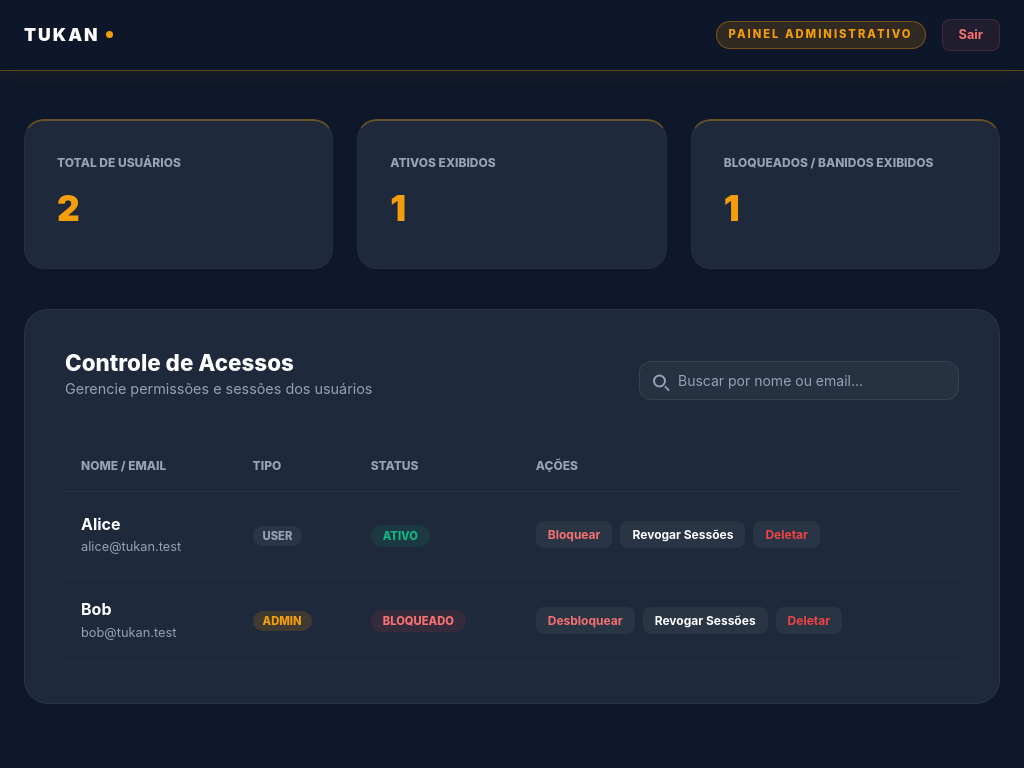
Test: DashboardView — admin search › shows a search-aware empty message when the term yields no results
Type "zzz" into the search field with class "search-input" at (799, 381), box [639,361,959,400]
Wait 350 ms
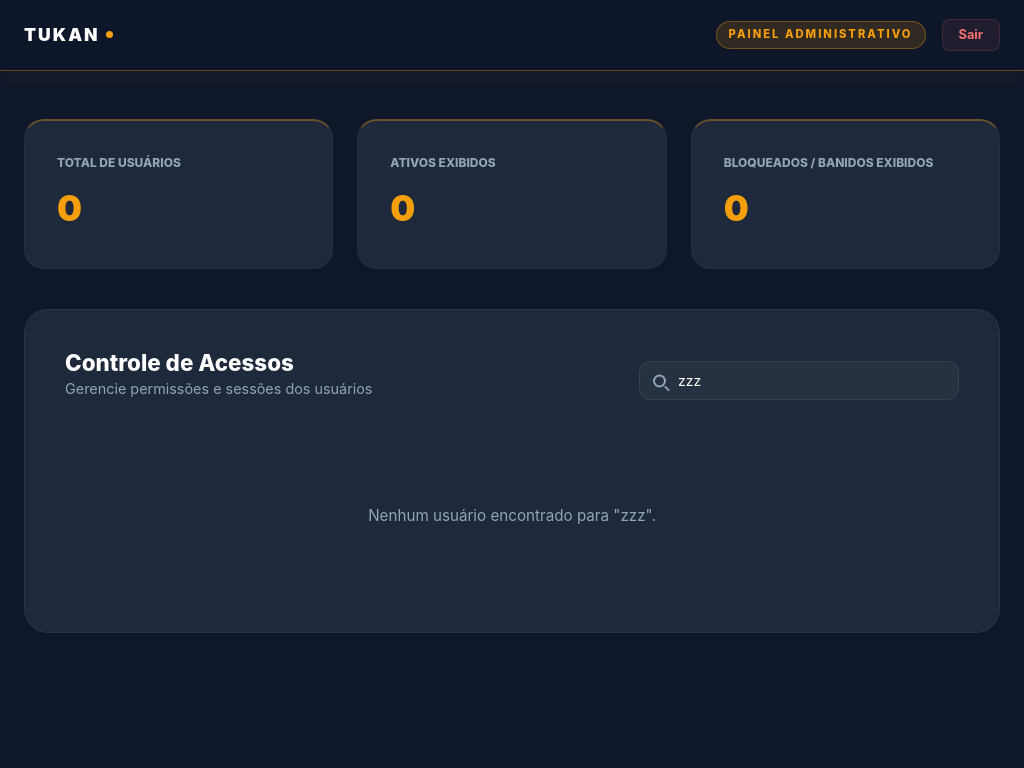
Result: the text "Nenhum usuário encontrado para \"zzz\"." is shown at [368,504,656,528]
